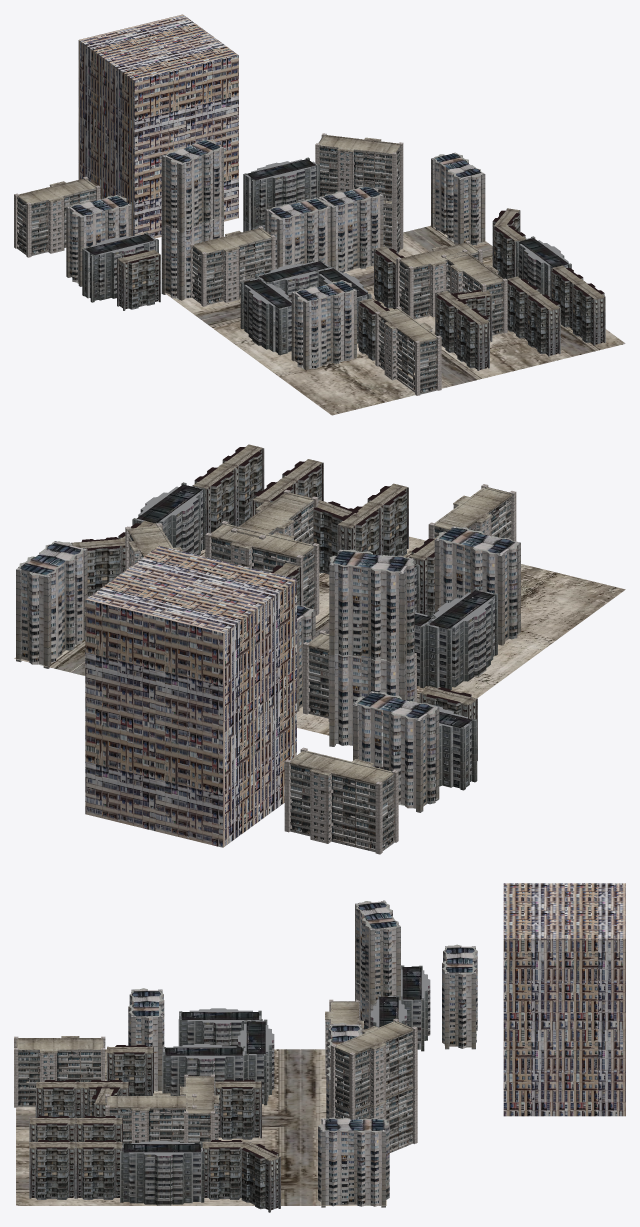
The model's file is buildings8.glb.
The picture shows the model from 3 angles, top to bottom: view 1: azimuth 30°, elevation 25°; view 2: azimuth 150°, elevation 25°; view 3: azimuth 270°, elevation 25°; orthographic projection. The views are drawn at different scales.
Parts seen in each view (by area): view 1: Plane.015, Plane.002, Plane.008, Plane.014, Cube.001, Cube.019, Cube.002, Plane.012, Cube.004, Plane.004, Plane.003, Plane.011 (+21 smaller); view 2: Plane.015, Cube.004, Plane.002, Plane.014, Plane.012, Plane, Plane.008, Plane.007, Plane.013, Cube.011, Plane.006, Cube.002 (+16 smaller); view 3: Plane.015, Plane.002, Plane.012, Cube.019, Plane.006, Cube.002, Plane.014, Plane, Cube.012, Plane.005, Cube.010, Cube.003 (+18 smaller).
Part boxes in pixels (box(x1,y1,x2,y2)): Plane.015: box(78, 14, 238, 238); Plane.002: box(165, 225, 625, 415); Plane.008: box(291, 280, 356, 370); Plane.014: box(161, 139, 223, 233); Cube.001: box(190, 226, 275, 306); Cube.019: box(315, 133, 403, 207); Cube.002: box(375, 306, 441, 395); Plane.012: box(431, 152, 485, 245); Cube.004: box(14, 176, 100, 257); Plane.004: box(318, 186, 383, 272); Plane.003: box(265, 197, 330, 268); Plane.011: box(243, 157, 319, 227); Plane.015: box(85, 545, 296, 847); Cube.004: box(284, 747, 398, 854); Plane.002: box(14, 536, 625, 735); Plane.014: box(329, 549, 414, 663); Plane.012: box(16, 541, 87, 668); Plane: box(353, 691, 439, 812); Plane.008: box(434, 526, 520, 645); Plane.007: box(424, 588, 497, 690); Plane.013: box(329, 649, 414, 746); Cube.011: box(205, 521, 319, 615); Plane.006: box(132, 482, 205, 555); Cube.002: box(428, 484, 516, 541); Plane.015: box(503, 883, 625, 1116); Plane.002: box(16, 1049, 386, 1205); Plane.012: box(318, 1117, 389, 1207); Cube.019: box(330, 1018, 417, 1112); Plane.006: box(120, 1140, 204, 1205); Cube.002: box(14, 1036, 105, 1107); Plane.014: box(355, 900, 400, 1005); Plane: box(442, 944, 477, 1049); Cube.012: box(105, 1093, 196, 1143); Plane.005: box(162, 1044, 246, 1095); Cube.010: box(29, 1140, 76, 1199); Cube.003: box(214, 1079, 261, 1139).
Size of the model in its own units: 18.08 by 7.78 by 23.71.
9 materials, 9 textured.
